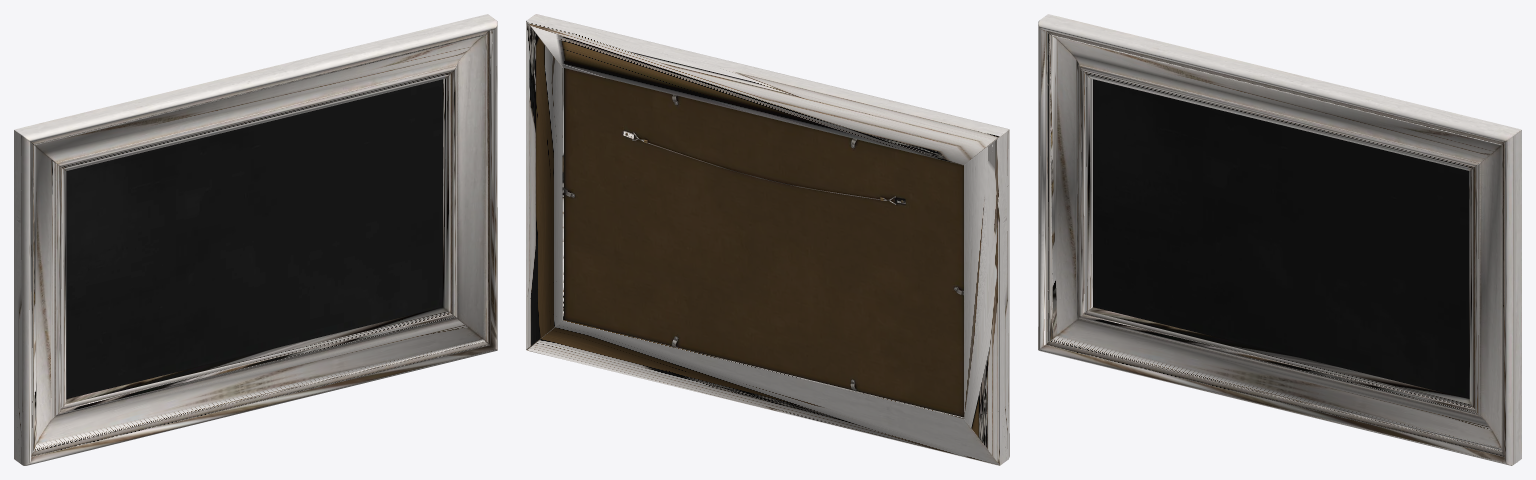
Rendered from hanging_picture_frame_02.glb.
3 views of the same model, side by side, from view 1: azimuth 30°, elevation 25°; view 2: azimuth 150°, elevation 25°; view 3: azimuth 330°, elevation 25° (orthographic).
Visible parts, largest first — view 1: hanging_picture_frame_02; view 2: hanging_picture_frame_02; view 3: hanging_picture_frame_02.
Part boxes in pixels (x1,y1,x2,y2): hanging_picture_frame_02: (14, 14, 497, 465); hanging_picture_frame_02: (526, 14, 1009, 465); hanging_picture_frame_02: (1038, 14, 1521, 465).
Size of the model in its own units: 0.7518 by 0.5 by 0.033.
Materials: 3 (3 with a texture image).
